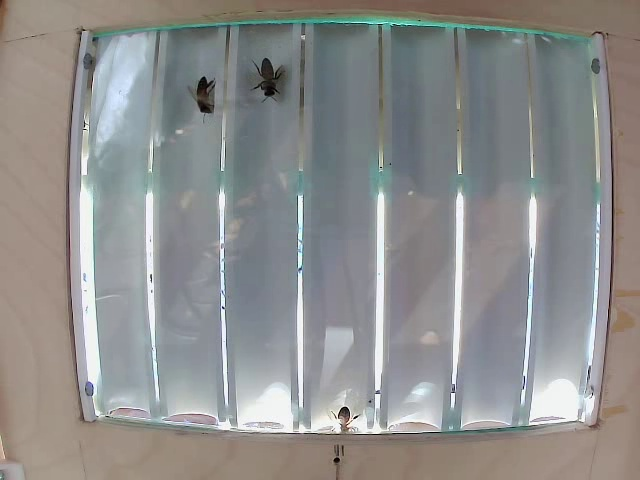bee: (250, 53, 286, 109), (191, 70, 219, 109)
